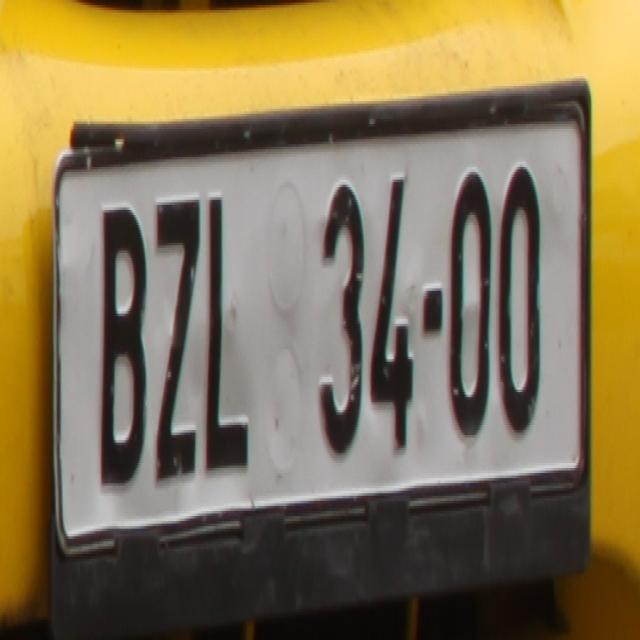0: (496, 162, 542, 440), (448, 164, 492, 448)
3: (319, 169, 364, 458)
4: (367, 172, 418, 440)
B: (96, 195, 150, 496)
L: (203, 182, 252, 463)
Z: (154, 187, 201, 478)
